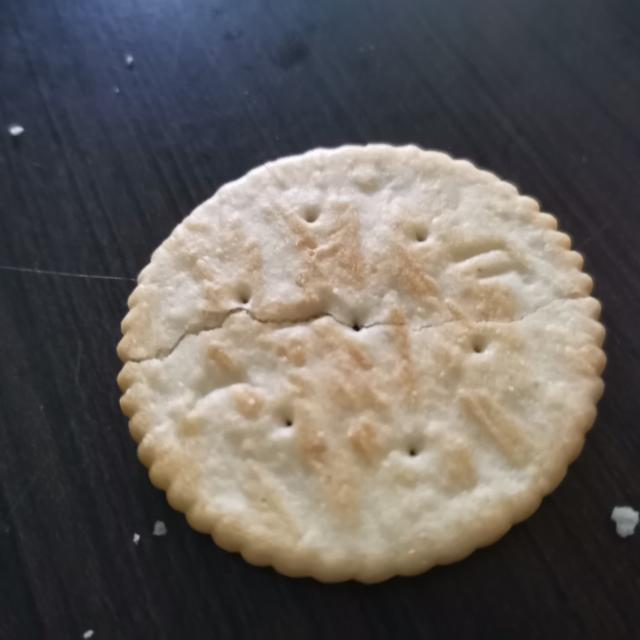Fracture: (123, 277, 597, 381)
